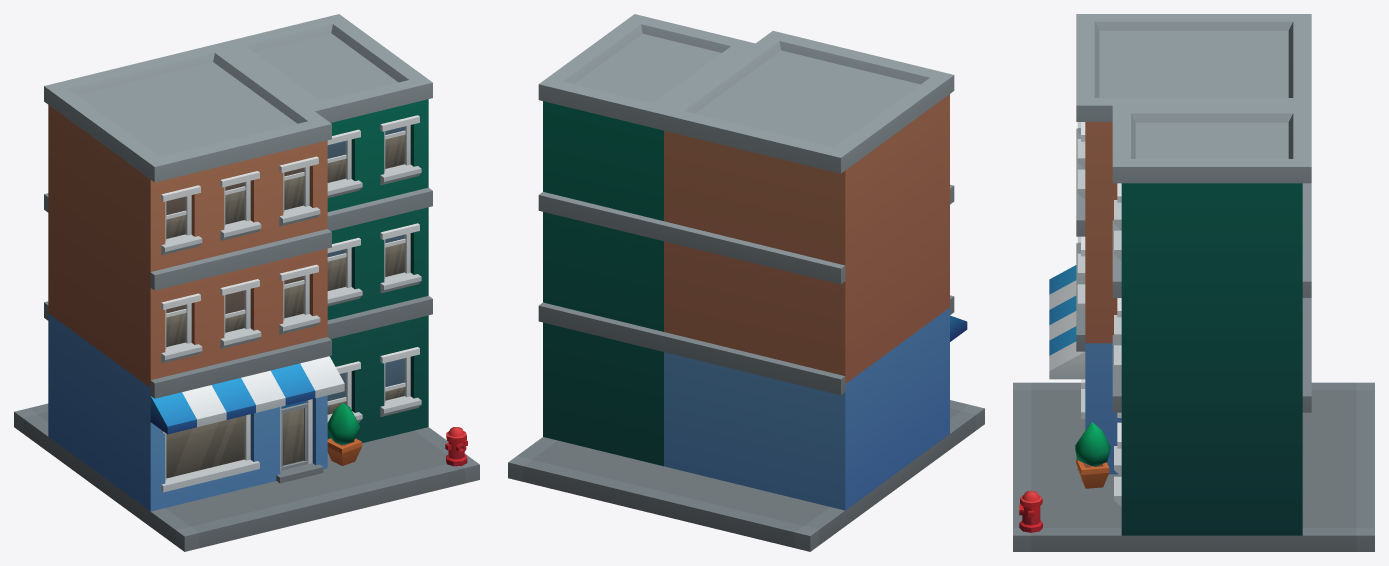
Rendered from Building.glb.
3 renders of one model, left to right at view 1: azimuth 30°, elevation 25°; view 2: azimuth 150°, elevation 25°; view 3: azimuth 270°, elevation 25°, orthographic. The views are drawn at different scales.
Parts seen in each view (by area): view 1: building_G; view 2: building_G; view 3: building_G.
Part boxes in pixels (x1,y1,x2,y2): building_G: (14, 14, 479, 551); building_G: (508, 14, 984, 551); building_G: (1013, 14, 1374, 551).
Size of the model in its own units: 2 by 2.35 by 2.
Materials: 1 (1 with a texture image).
